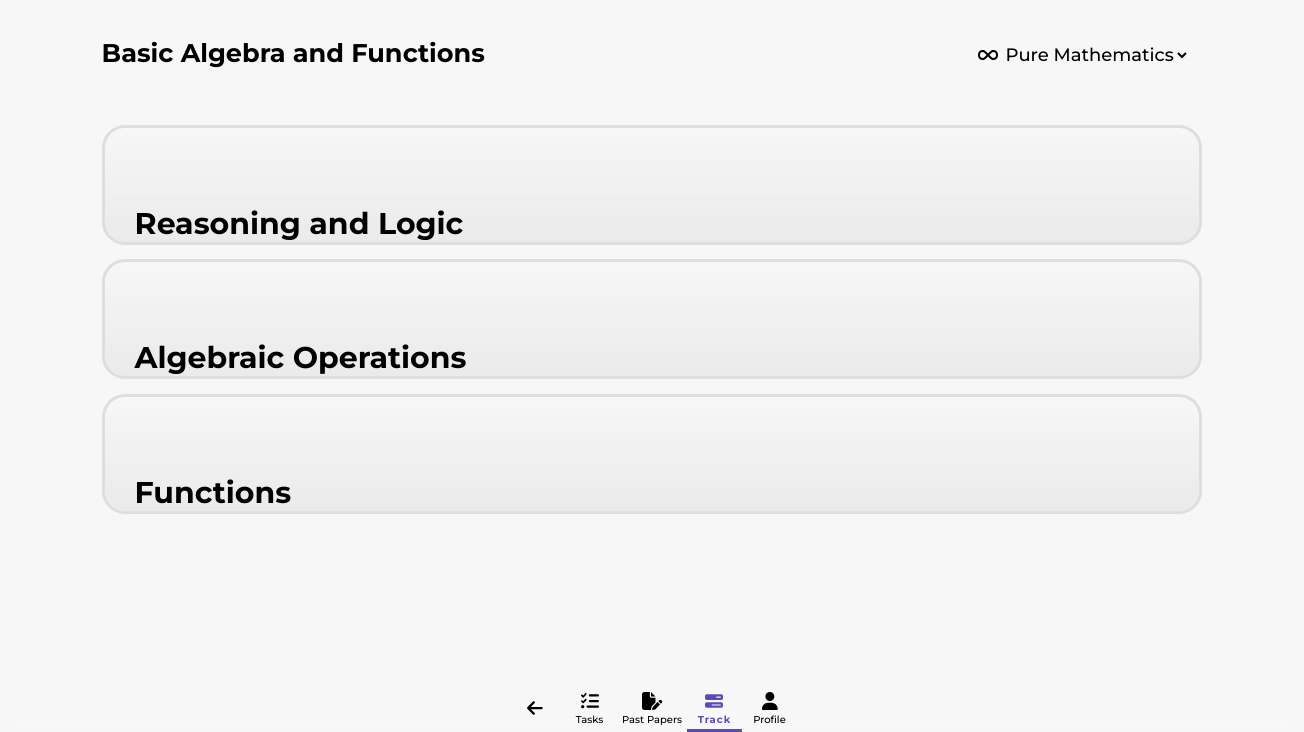
Module and Topic (11, 12, 13, 19) › topics show in syllabus order and a topic name opens its objectives page
The width and height of the screenshot is (1304, 732).
Click the link "Reasoning and Logic" at (299, 224), box left=135, top=205, right=463, bottom=242
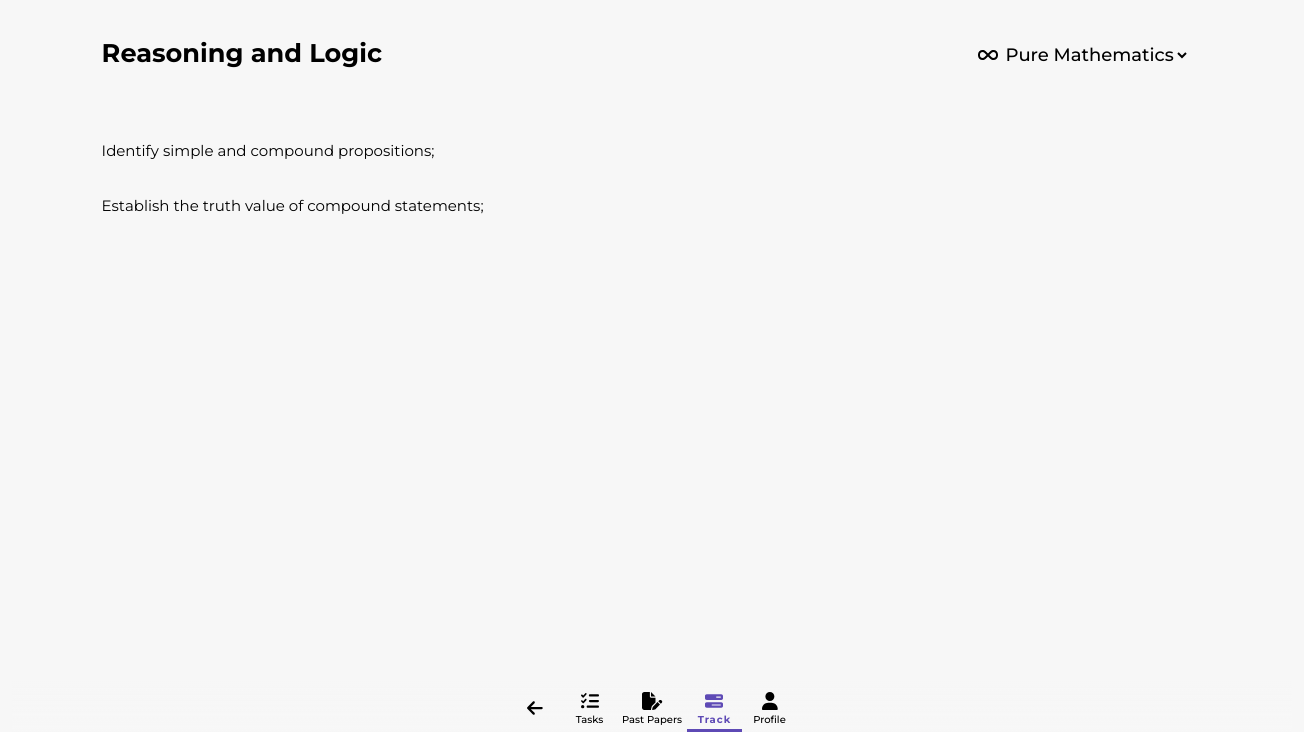
Expected: the text "identify simple and compound propositions;" is shown, left=102, top=141, right=434, bottom=160
